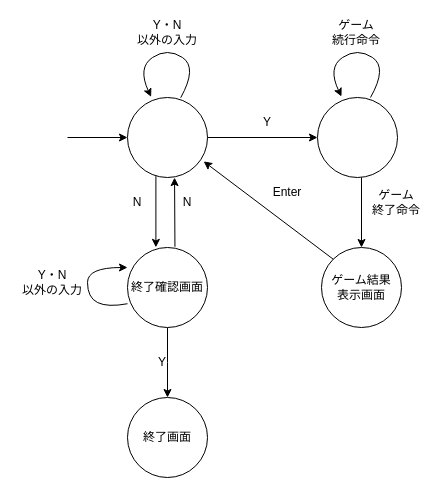
The diagram is 448 pixels wide and 495 high, and some of its shapes have lost their labels. Here are the shapes that lost their labels. From the top down, the box of each, then its label:
(126, 96, 208, 178): タイトル画面
(316, 96, 398, 178): ゲーム画面
